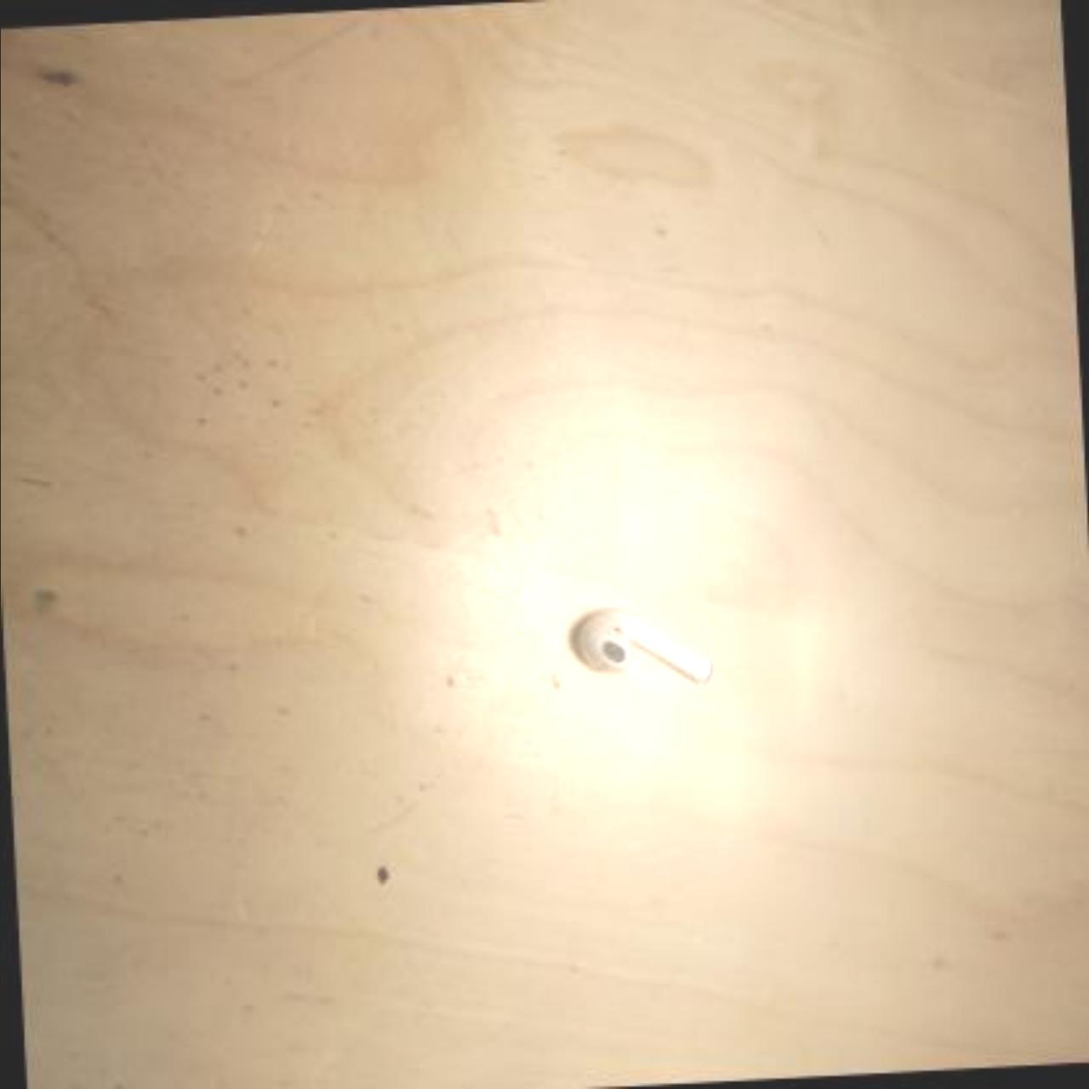Airpods_Units: (569, 596, 716, 703)
